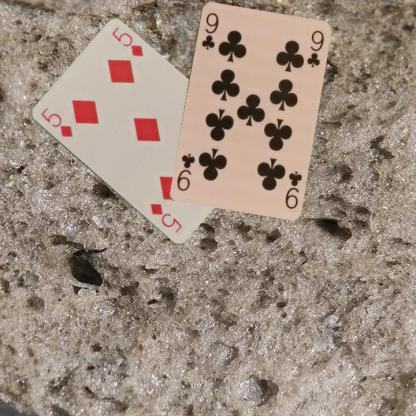5d: (38, 104, 74, 139)
9c: (282, 168, 304, 210), (199, 9, 220, 51)
